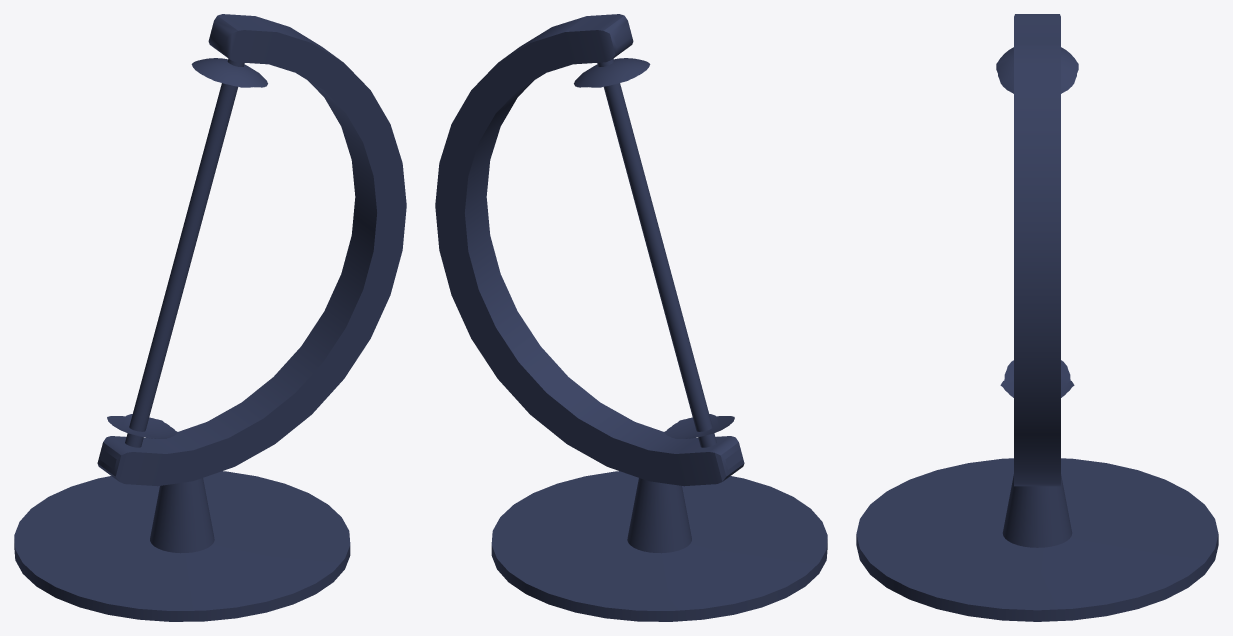
Rendered from mars-stand.glb.
3 views of the same model, side by side, from view 1: azimuth 30°, elevation 25°; view 2: azimuth 150°, elevation 25°; view 3: azimuth 270°, elevation 25° (orthographic). The views are drawn at different scales.
Visible parts, largest first — view 1: GlobeEarthCartoony_Material.003_0; view 2: GlobeEarthCartoony_Material.003_0; view 3: GlobeEarthCartoony_Material.003_0.
Part boxes in pixels (x1=…): GlobeEarthCartoony_Material.003_0: x1=14, y1=14, x2=406, y2=621; GlobeEarthCartoony_Material.003_0: x1=435, y1=14, x2=827, y2=621; GlobeEarthCartoony_Material.003_0: x1=856, y1=14, x2=1218, y2=621.
Bounding box in the file's own units: 15.28 × 20.99 × 12.4.
